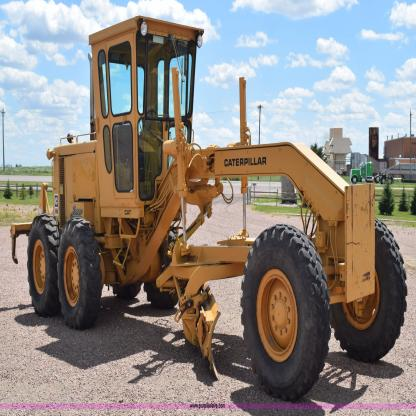bull_dozer/loader/grader: (7, 17, 414, 392)
